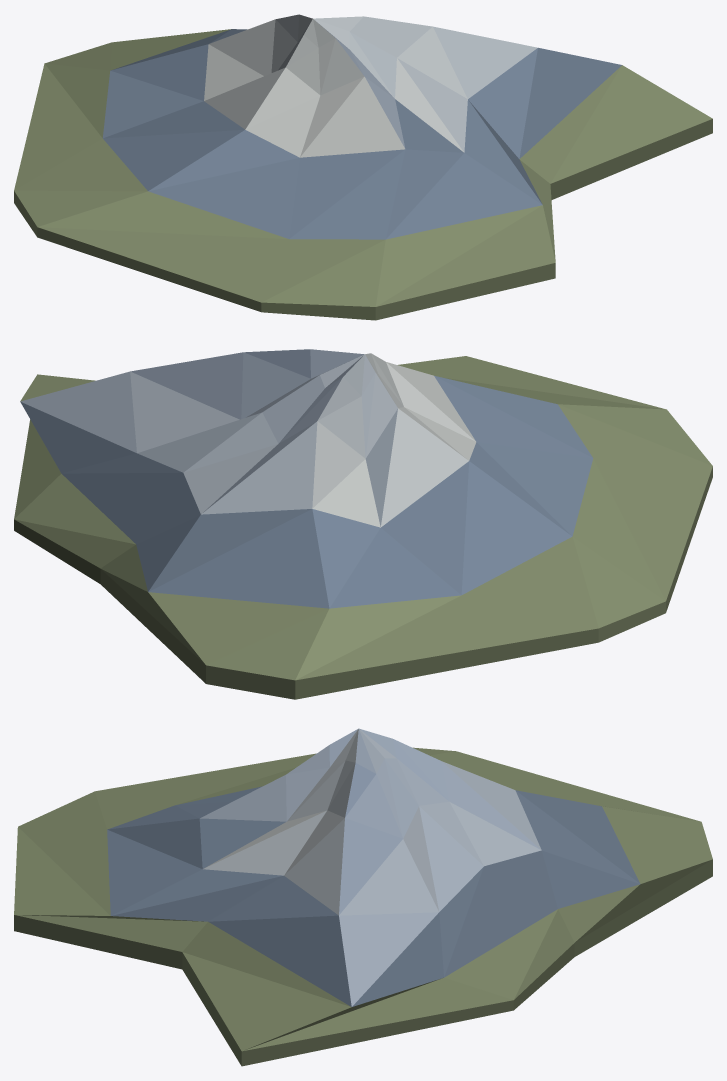
The model's file is massif_east_spur.glb.
3 views of the same model, one above another, from view 1: azimuth 30°, elevation 25°; view 2: azimuth 150°, elevation 25°; view 3: azimuth 270°, elevation 25° (orthographic). The views are drawn at different scales.
Visible parts, largest first — view 1: massif_east_spur; view 2: massif_east_spur; view 3: massif_east_spur.
Boxes of the visible parts, box(x1,y1,x2,y2) form: massif_east_spur: box(14, 14, 712, 320); massif_east_spur: box(14, 349, 712, 699); massif_east_spur: box(14, 728, 712, 1066).
Bounding box in the file's own units: 753 × 184 × 714.
